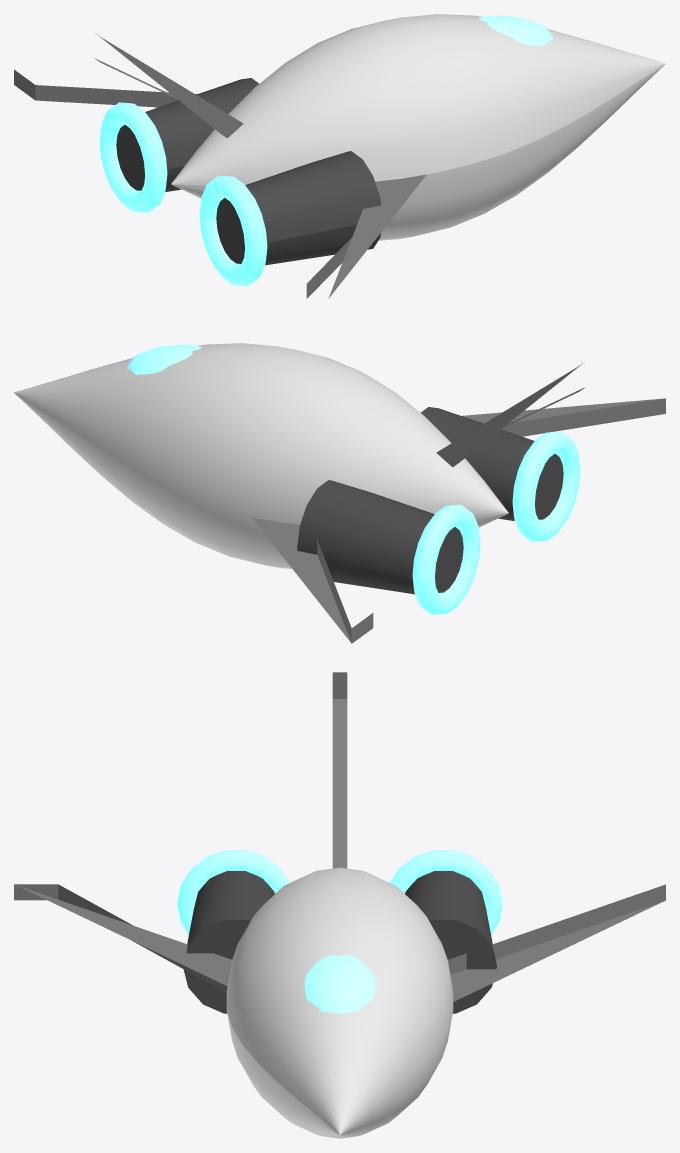
Rendered from nave.glb.
The picture shows the model from 3 angles, top to bottom: view 1: azimuth 30°, elevation 25°; view 2: azimuth 150°, elevation 25°; view 3: azimuth 270°, elevation 25°; orthographic projection. The views are drawn at different scales.
Visible parts, largest first — view 1: Ultra-realistic_Spaceship_fuselage, Ultra-realistic_Spaceship_engine_l, Ultra-realistic_Spaceship_engine_r, Ultra-realistic_Spaceship_glow_l, Ultra-realistic_Spaceship_glow_r, Ultra-realistic_Spaceship_wing_l, Ultra-realistic_Spaceship_wing_r, Ultra-realistic_Spaceship_tail, Ultra-realistic_Spaceship_cockpit; view 2: Ultra-realistic_Spaceship_fuselage, Ultra-realistic_Spaceship_engine_r, Ultra-realistic_Spaceship_engine_l, Ultra-realistic_Spaceship_glow_r, Ultra-realistic_Spaceship_glow_l, Ultra-realistic_Spaceship_wing_r, Ultra-realistic_Spaceship_wing_l, Ultra-realistic_Spaceship_tail, Ultra-realistic_Spaceship_cockpit; view 3: Ultra-realistic_Spaceship_fuselage, Ultra-realistic_Spaceship_wing_r, Ultra-realistic_Spaceship_engine_r, Ultra-realistic_Spaceship_engine_l, Ultra-realistic_Spaceship_wing_l, Ultra-realistic_Spaceship_cockpit, Ultra-realistic_Spaceship_tail, Ultra-realistic_Spaceship_glow_l, Ultra-realistic_Spaceship_glow_r.
Boxes of the visible parts, x1,y1,x2,y2 form: Ultra-realistic_Spaceship_fuselage: (171, 14, 665, 240); Ultra-realistic_Spaceship_engine_l: (216, 151, 380, 265); Ultra-realistic_Spaceship_engine_r: (116, 78, 258, 191); Ultra-realistic_Spaceship_glow_l: (199, 175, 267, 285); Ultra-realistic_Spaceship_glow_r: (99, 102, 167, 212); Ultra-realistic_Spaceship_wing_l: (306, 174, 426, 298); Ultra-realistic_Spaceship_wing_r: (14, 69, 197, 107); Ultra-realistic_Spaceship_tail: (94, 33, 243, 138); Ultra-realistic_Spaceship_cockpit: (478, 15, 553, 45); Ultra-realistic_Spaceship_fuselage: (14, 343, 508, 568); Ultra-realistic_Spaceship_engine_r: (297, 480, 463, 594); Ultra-realistic_Spaceship_engine_l: (421, 407, 563, 520); Ultra-realistic_Spaceship_glow_r: (412, 504, 480, 614); Ultra-realistic_Spaceship_glow_l: (512, 431, 580, 541); Ultra-realistic_Spaceship_wing_r: (252, 517, 373, 643); Ultra-realistic_Spaceship_wing_l: (462, 398, 665, 436); Ultra-realistic_Spaceship_tail: (436, 362, 585, 467); Ultra-realistic_Spaceship_cockpit: (126, 344, 201, 374); Ultra-realistic_Spaceship_fuselage: (226, 867, 453, 1138); Ultra-realistic_Spaceship_wing_r: (448, 884, 665, 1001); Ultra-realistic_Spaceship_engine_r: (405, 871, 496, 1013); Ultra-realistic_Spaceship_engine_l: (183, 871, 274, 1013); Ultra-realistic_Spaceship_wing_l: (14, 884, 231, 992); Ultra-realistic_Spaceship_cockpit: (304, 955, 375, 1013); Ultra-realistic_Spaceship_tail: (332, 672, 347, 868); Ultra-realistic_Spaceship_glow_l: (177, 850, 289, 934); Ultra-realistic_Spaceship_glow_r: (390, 850, 502, 934).
Bounding box in the file's own units: 1.37 × 0.6171 × 1.31.
